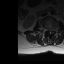CCS_normal: (49, 27, 51, 36)
LFS_severe_stenosis: (53, 28, 54, 31)
LLS_stenosis: (51, 27, 52, 32)
RFS_stenosis: (46, 27, 48, 31)
RLS_stenosis: (48, 27, 49, 32)
